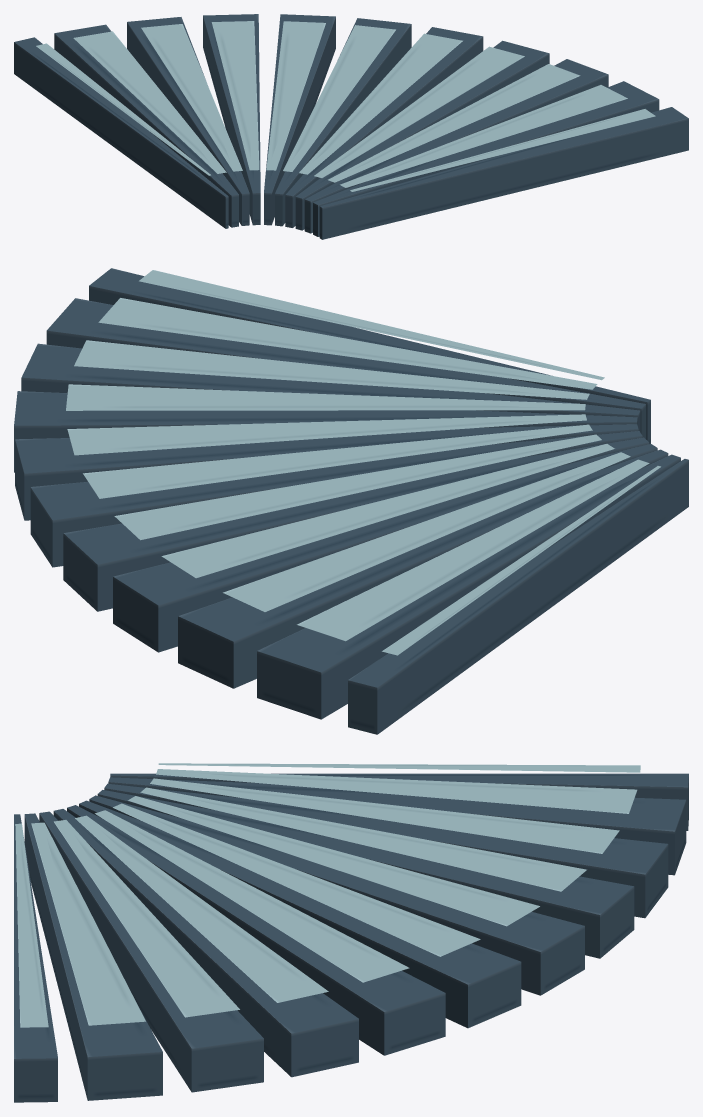
The model's file is sc_tread_curve_left_14.obj.
3 views of the same model, one above another, from view 1: azimuth 30°, elevation 25°; view 2: azimuth 150°, elevation 25°; view 3: azimuth 270°, elevation 25° (orthographic). The views are drawn at different scales.
Size of the model in its own units: 17.5 by 1.56 by 17.5.
Materials: 1 (1 with a texture image).
